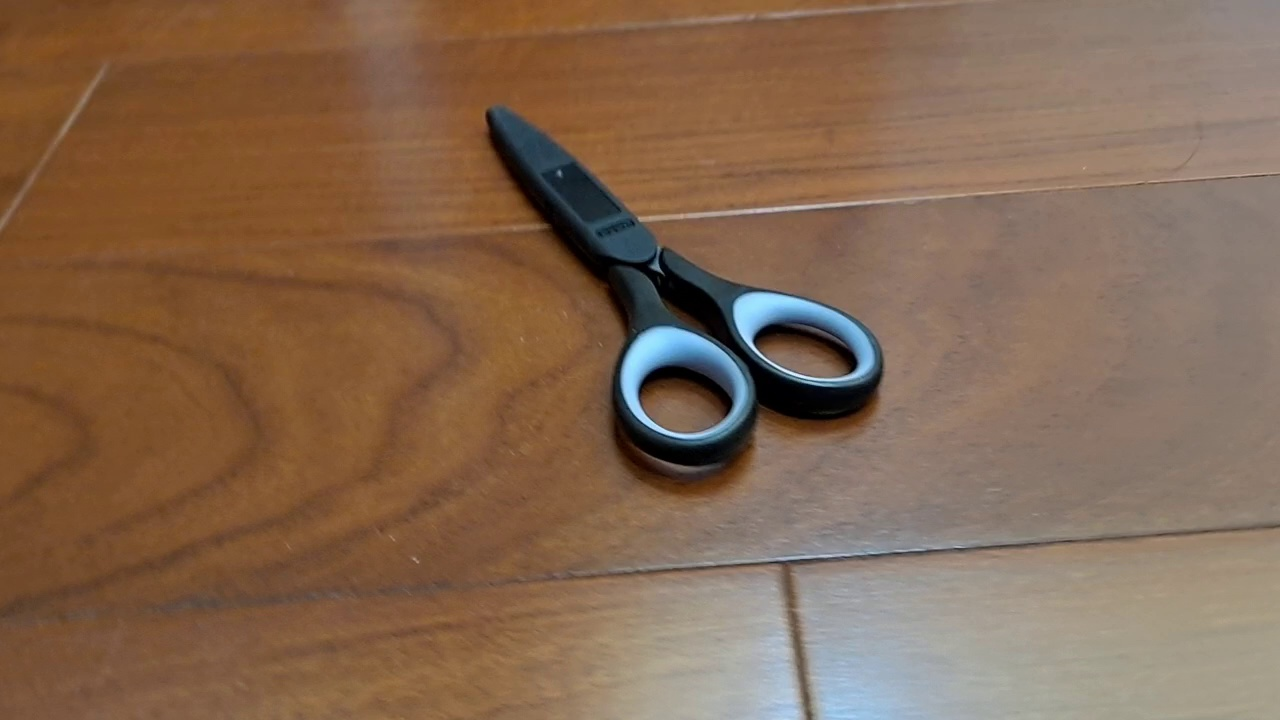scissors: (483, 102, 886, 468)
